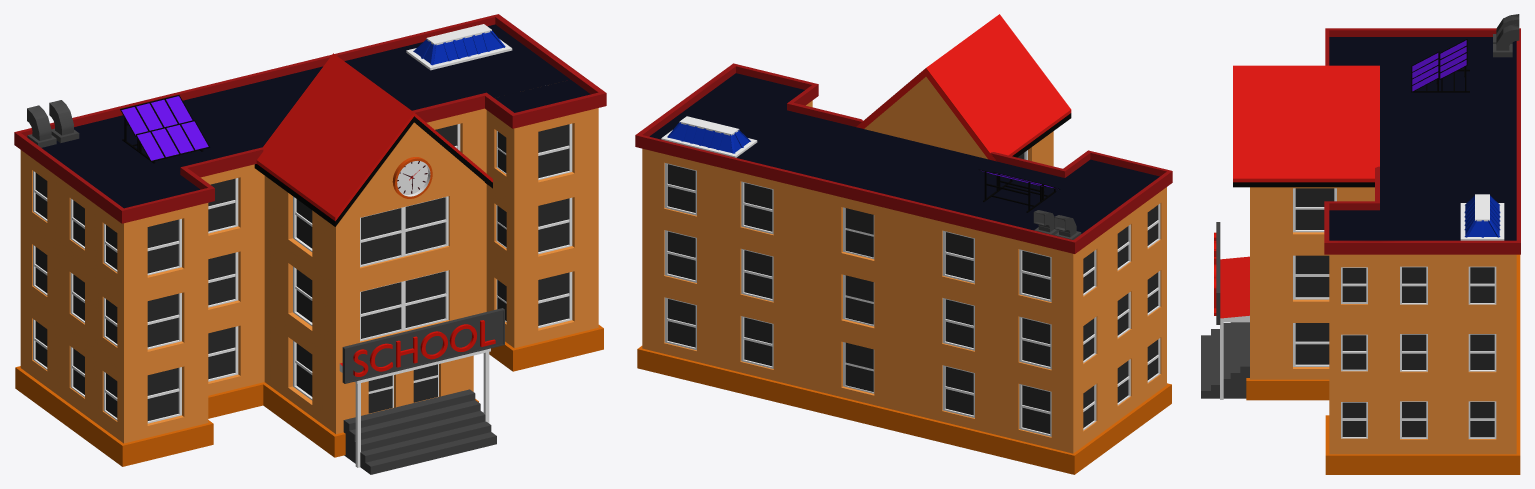
File: School.fbx
3 views of the same model, side by side, from view 1: azimuth 30°, elevation 25°; view 2: azimuth 150°, elevation 25°; view 3: azimuth 270°, elevation 25° (orthographic). The views are drawn at different scales.
Parts seen in each view (by area): view 1: Plane.223; view 2: Plane.223; view 3: Plane.223.
Boxes of the visible parts, box(x1,y1,x2,y2) form: Plane.223: box(14, 14, 606, 474); Plane.223: box(635, 14, 1172, 474); Plane.223: box(1201, 14, 1520, 474).
Bounding box in the file's own units: 1641 × 1184 × 1033.
